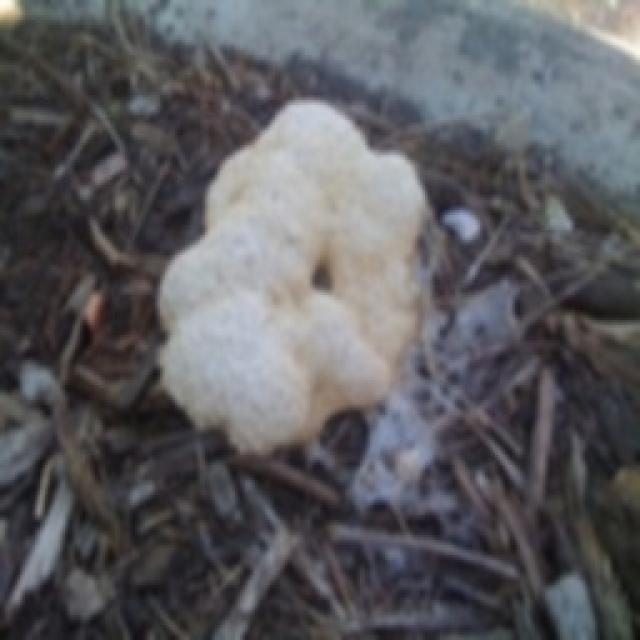Dog_vomit_slime_mold: (161, 103, 473, 446)
